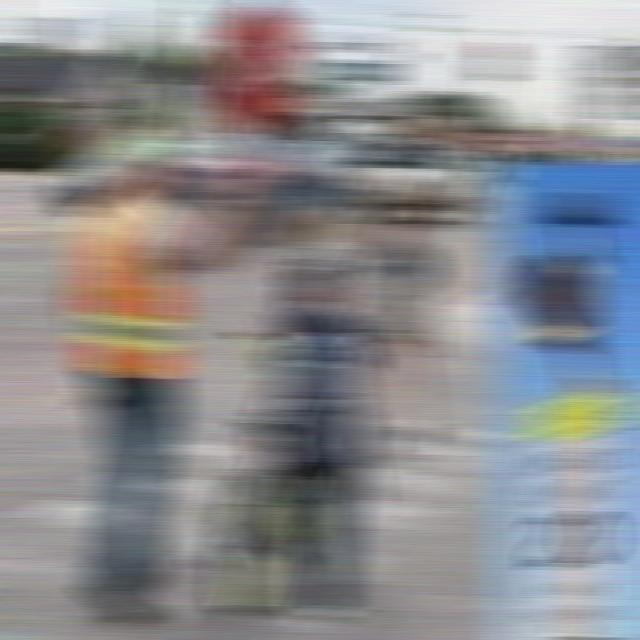speedLimit20: (520, 441, 620, 570)
